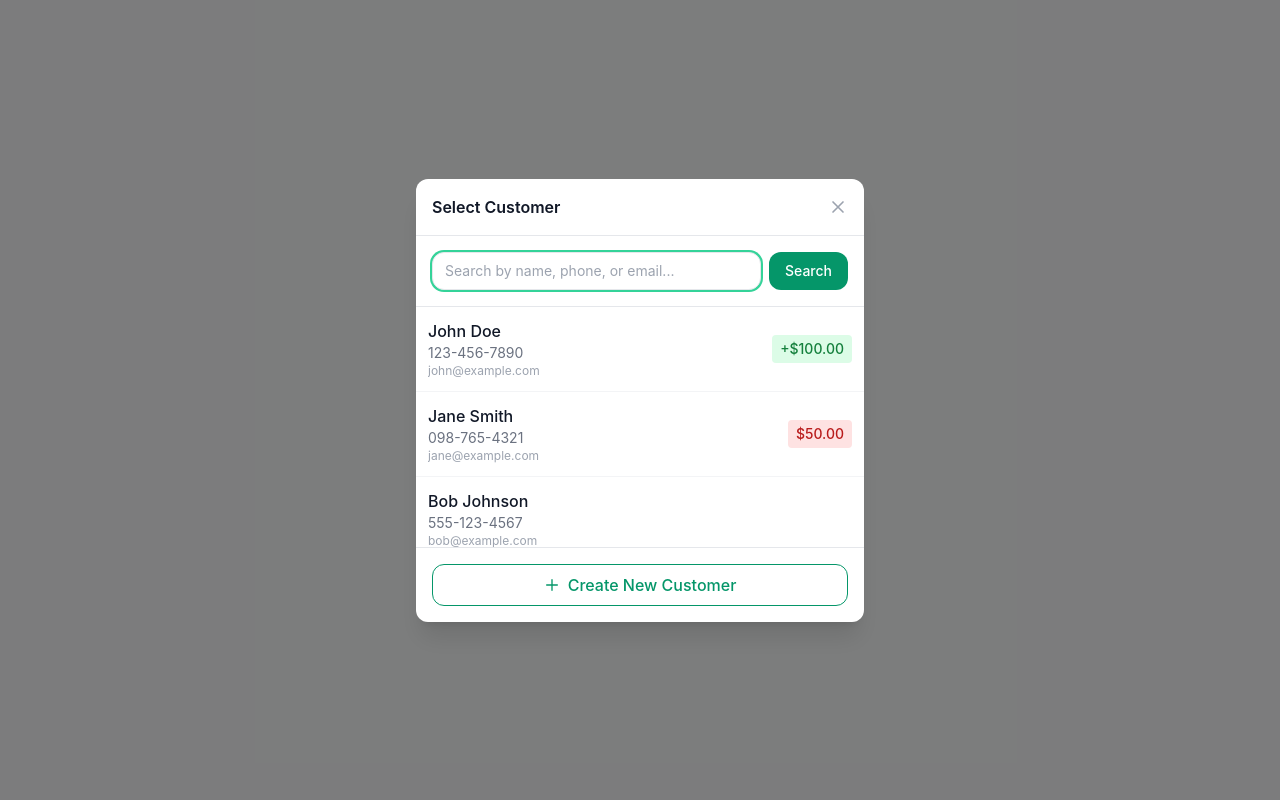
Test: CustomerSearchModal › should cancel customer creation
// Click create new customer button
Click the button "Create New Customer" at (640, 584), box top-left (432, 564), bottom-right (848, 606)
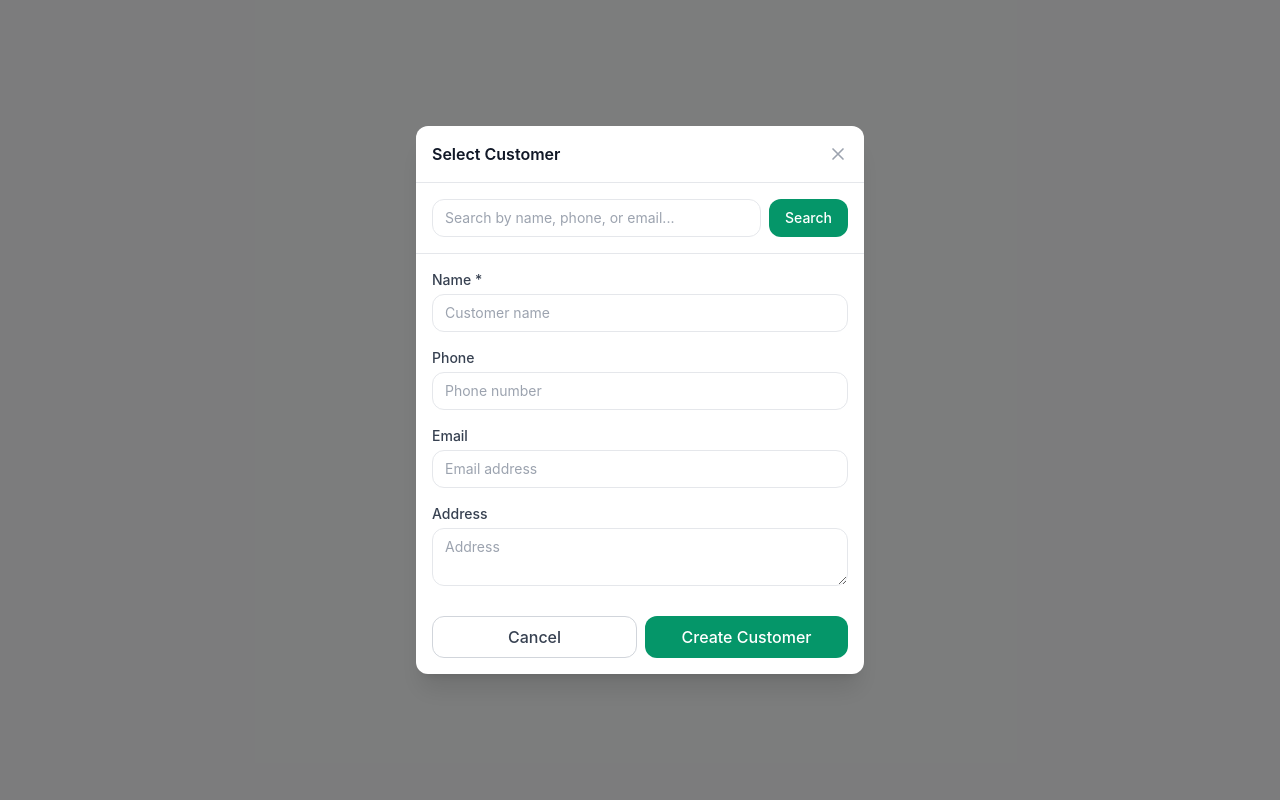
// Click cancel
Click the button "Cancel" at (534, 637), box top-left (432, 616), bottom-right (637, 658)
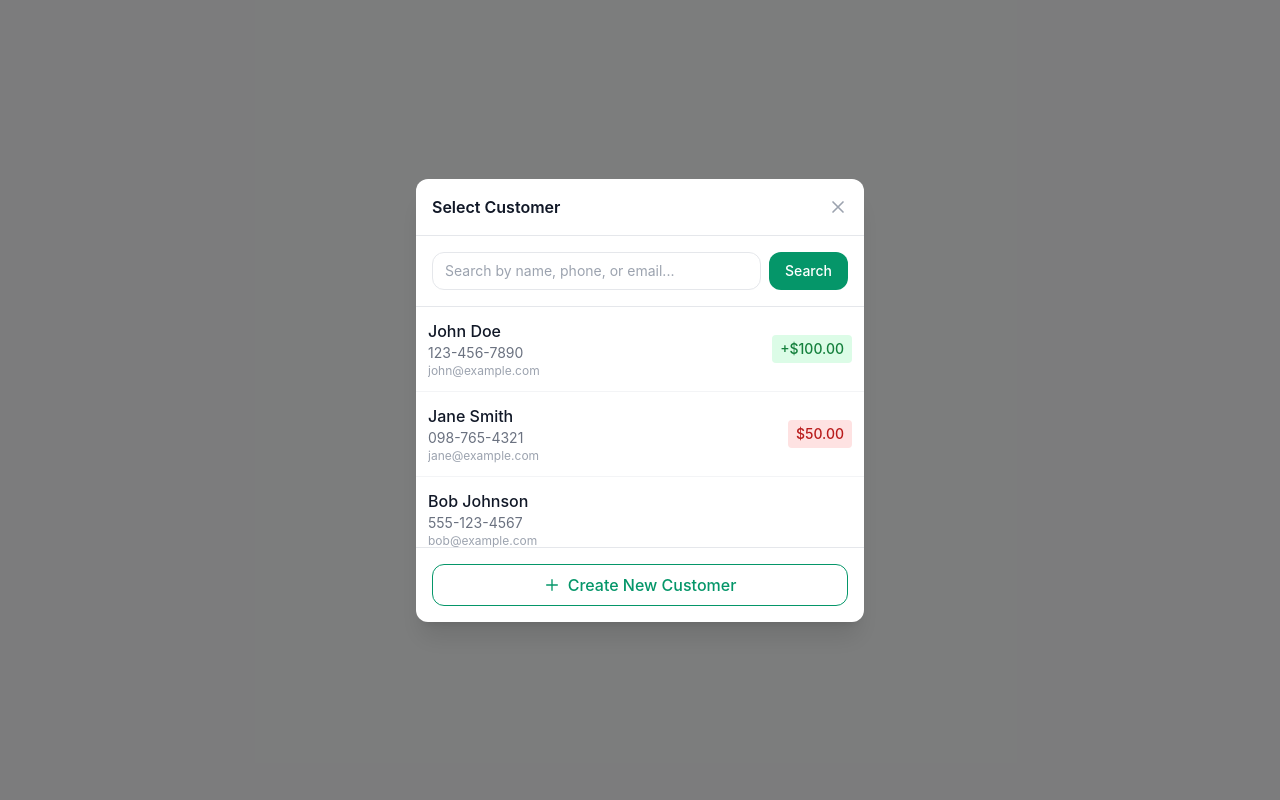
Expected: the heading "Select Customer" is shown, top-left (432, 194), bottom-right (560, 218)
Result: the button "Create New Customer" is shown at top-left (432, 564), bottom-right (848, 606)
